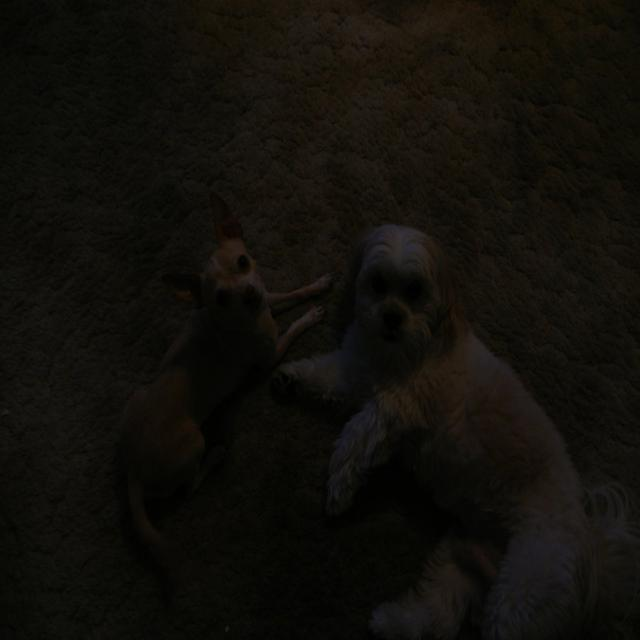Dog: (310, 129, 617, 575), (124, 183, 314, 547)
